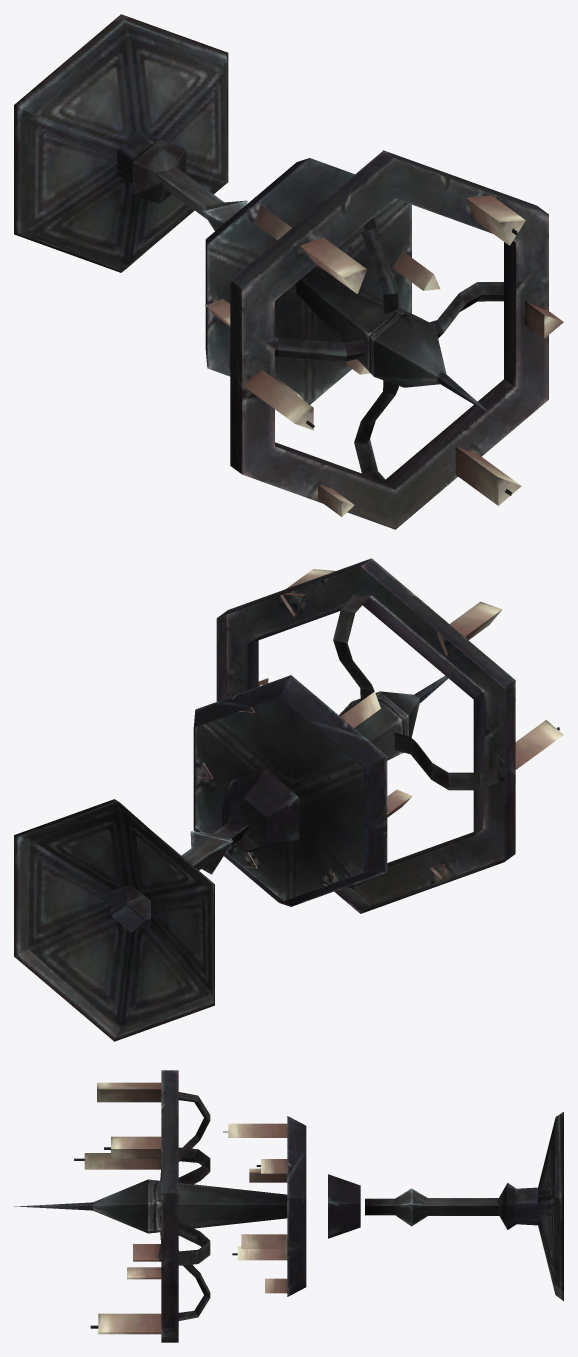
The model's file is tanxian_fuben_257_canting_zhutai_01.obj.
3 views of the same model, one above another, from view 1: azimuth 30°, elevation 25°; view 2: azimuth 150°, elevation 25°; view 3: azimuth 270°, elevation 25° (orthographic). The views are drawn at different scales.
Visible parts, largest first — view 1: tanxian_fuben_257_canting_zhutai_01; view 2: tanxian_fuben_257_canting_zhutai_01; view 3: tanxian_fuben_257_canting_zhutai_01.
Boxes of the visible parts, bbox=[...] form: tanxian_fuben_257_canting_zhutai_01: bbox=[14, 14, 563, 529]; tanxian_fuben_257_canting_zhutai_01: bbox=[14, 558, 563, 1041]; tanxian_fuben_257_canting_zhutai_01: bbox=[14, 1070, 563, 1342].
Bounding box in the file's own units: 28.73 × 33.17 × 60.78.
Materials: 1 (1 with a texture image).
